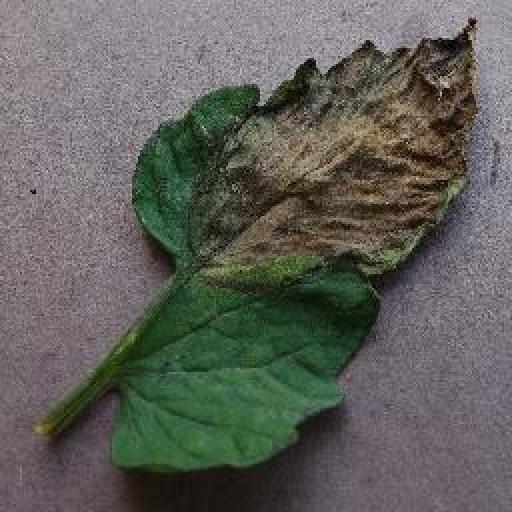Late Blight: (112, 16, 483, 476)
